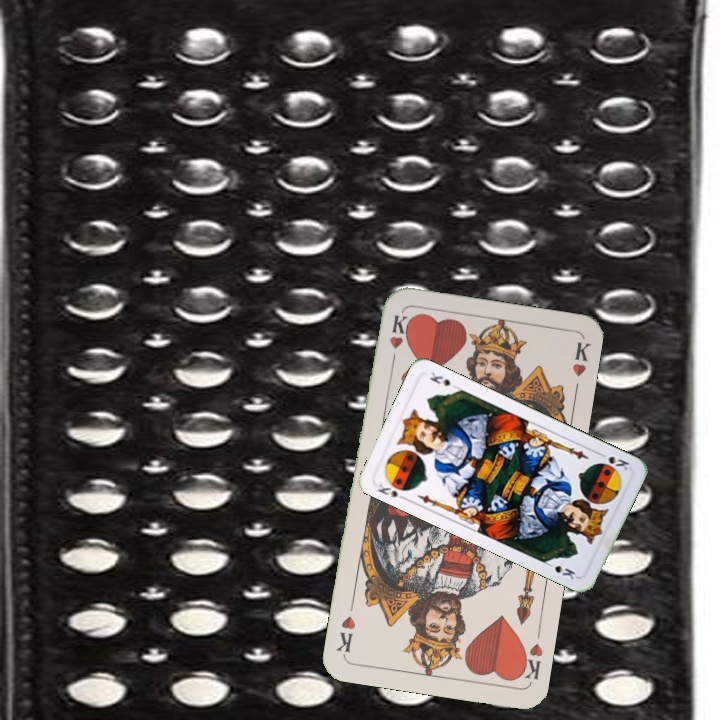HK: (385, 311, 410, 369), (514, 639, 546, 682)
SK: (594, 448, 632, 473), (373, 480, 410, 503)
